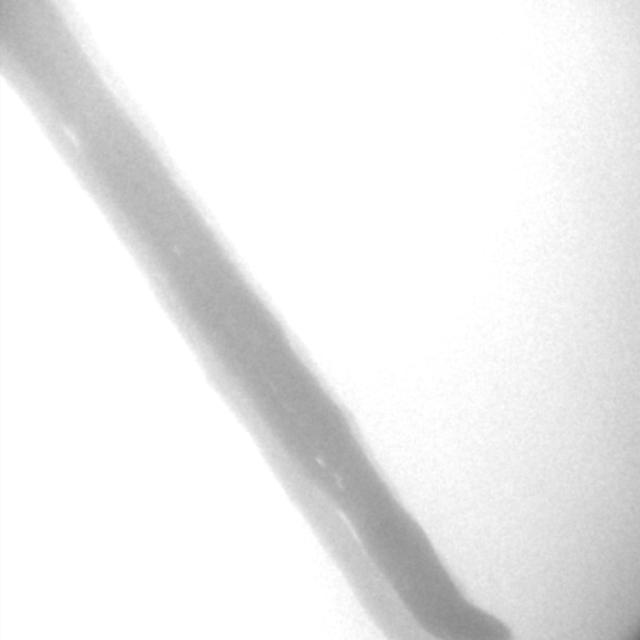air hole: (63, 126, 79, 145), (315, 455, 326, 467), (174, 247, 180, 255)
broken arc: (332, 507, 434, 637)
